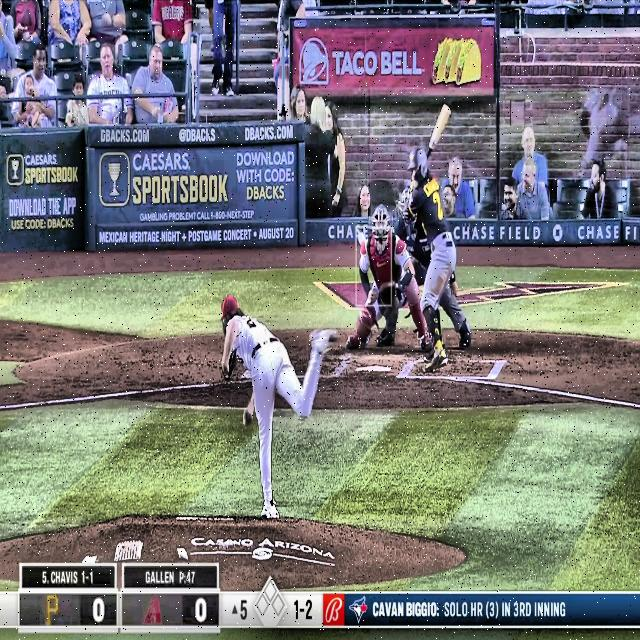baseball: (358, 232, 366, 245)
